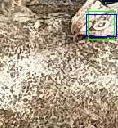text: (88, 11, 114, 39)
